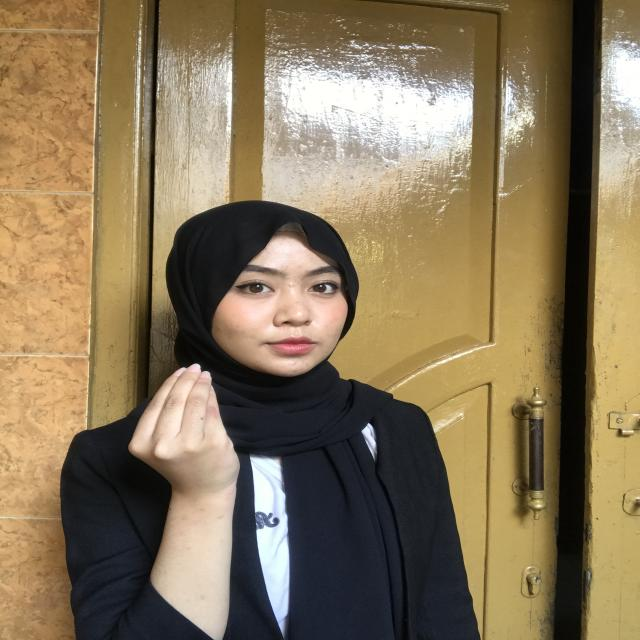kapan: (121, 363, 243, 512)
